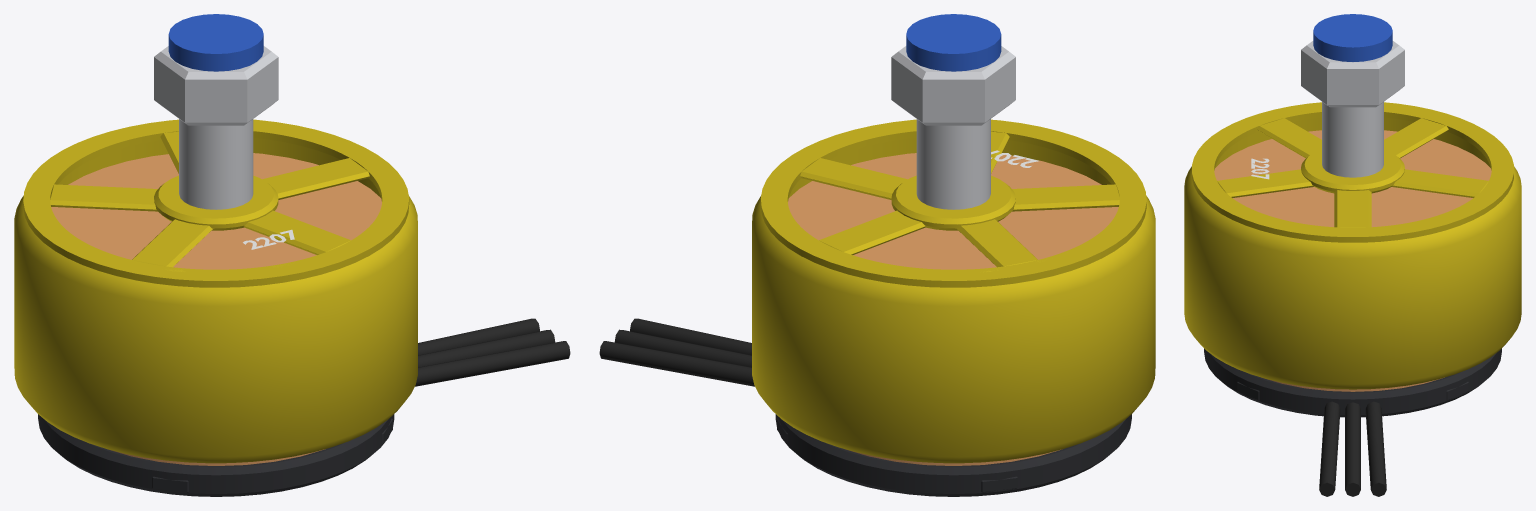
File: motor_m2207.glb
The picture shows the model from 3 angles, left to right: view 1: azimuth 30°, elevation 25°; view 2: azimuth 150°, elevation 25°; view 3: azimuth 270°, elevation 25°; orthographic projection. The views are drawn at different scales.
Parts seen in each view (by area): view 1: motor_campana, motor_techo, techo_cobre, motor_base, motor_tuerca, motor_cables, motor_eje, tuerca_nylon; view 2: motor_campana, motor_techo, techo_cobre, motor_base, motor_tuerca, motor_cables, motor_eje, tuerca_nylon; view 3: motor_campana, motor_techo, techo_cobre, motor_base, motor_tuerca, motor_cables, motor_eje, tuerca_nylon, motor_bobinado.
Boxes of the visible parts, bbox=[...] form: motor_campana: bbox=[14, 131, 417, 463]; motor_techo: bbox=[23, 119, 409, 287]; techo_cobre: bbox=[51, 153, 381, 269]; motor_base: bbox=[38, 414, 394, 496]; motor_tuerca: bbox=[154, 46, 278, 125]; motor_cables: bbox=[415, 318, 570, 386]; motor_eje: bbox=[179, 119, 253, 209]; tuerca_nylon: bbox=[168, 14, 263, 71]; motor_campana: bbox=[752, 131, 1155, 463]; motor_techo: bbox=[760, 119, 1146, 287]; techo_cobre: bbox=[788, 153, 1118, 269]; motor_base: bbox=[775, 414, 1131, 496]; motor_tuerca: bbox=[891, 46, 1015, 125]; motor_cables: bbox=[599, 318, 754, 386]; motor_eje: bbox=[916, 119, 990, 209]; tuerca_nylon: bbox=[906, 14, 1001, 71]; motor_campana: bbox=[1184, 111, 1521, 389]; motor_techo: bbox=[1192, 102, 1513, 242]; techo_cobre: bbox=[1214, 130, 1491, 227]; motor_base: bbox=[1204, 348, 1501, 417]; motor_tuerca: bbox=[1301, 41, 1404, 107]; motor_cables: bbox=[1319, 401, 1386, 496]; motor_eje: bbox=[1322, 102, 1383, 177]; tuerca_nylon: bbox=[1313, 14, 1392, 61]; motor_bobinado: bbox=[1261, 377, 1444, 391].
Size of the model in its own units: 0.0396 by 0.0293 by 0.0272.
